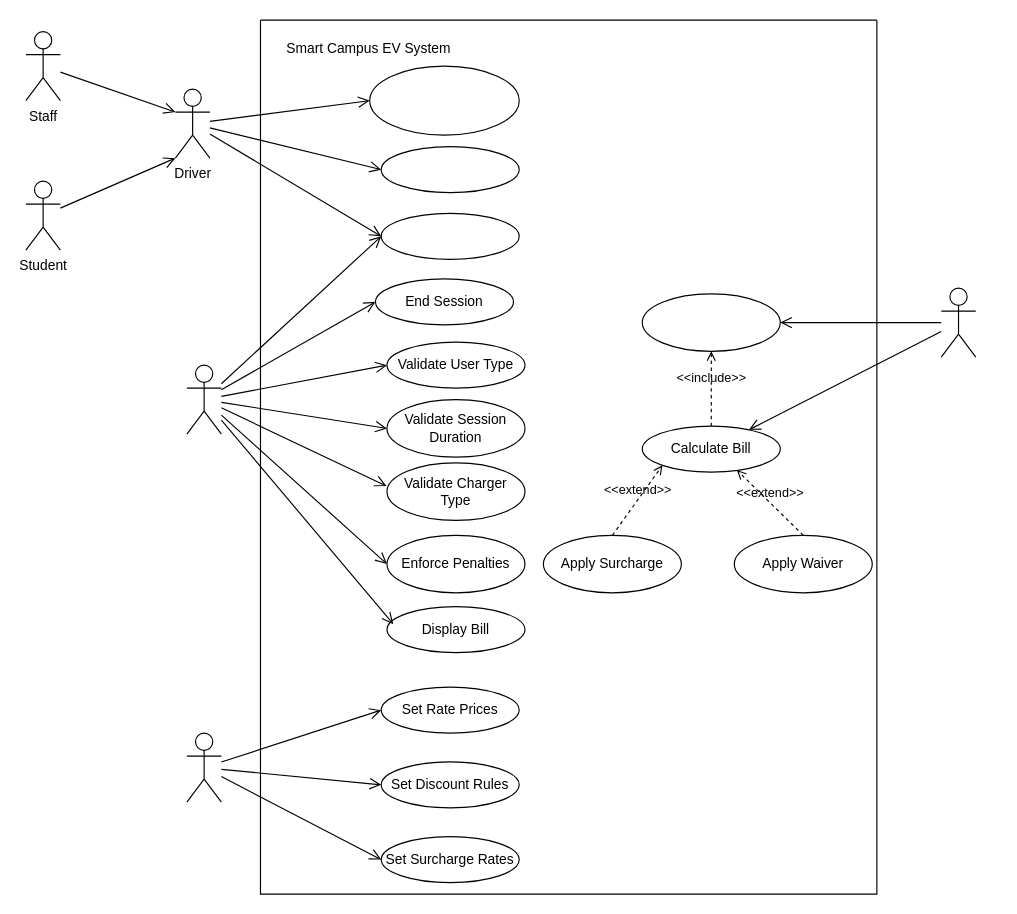
Some shapes in this 1017 by 914 pixel diagram are drawn without their labels. Here are the shapes that lost their labels. From the top down, the centre of each, then its label:
the point at 444,100: Give User ID, Vehicle Number
the point at 449,169: Pay Bill
the point at 449,235: Start Session
the point at 710,322: Calculate Charging fee
the point at 958,322: <<system>>
the point at 203,399: Staff Attendant
the point at 203,767: System Admin
